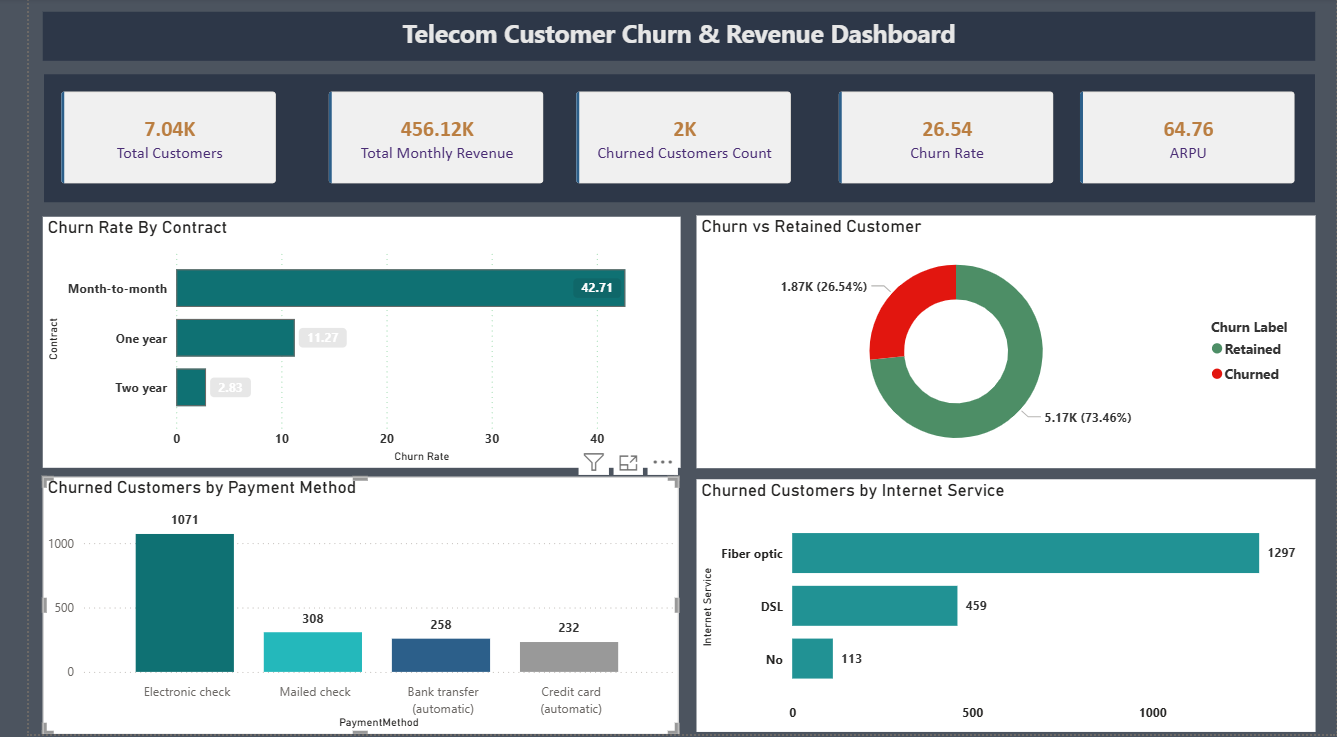

Layout of this report page (visuals, bound fields, positions):
{"tool":"powerbi","page":{"name":"Executive Summary","canvas":[1280,720],"ordinal":0},"visuals":[{"type":"group","id":"g1","title":"Group 1","box":[15.1,74.1,1243.2,124.9],"z":0},{"type":"barChart","title":"Churn Rate By Contract","fields":{"Y":["Billing.Churn Rate"],"Category":["Billing.Contract"]},"box":[13.5,214,623.6,245.8],"z":1000},{"type":"donutChart","title":"Churn vs Retained Customer","fields":{"Category":["ChurnStatus.Churn Label"],"Y":["CountNonNull(ChurnStatus.customerID)"]},"box":[653,212.8,605.3,247],"z":2000},{"type":"clusteredColumnChart","title":"Churned Customers by Payment Method","fields":{"Category":["Billing.PaymentMethod"],"Y":["Sum(ChurnStatus.Churn)"]},"box":[13.5,468.3,622.4,251.9],"z":3000},{"type":"textbox","box":[13.7,13.7,1244.6,48],"z":4000},{"type":"cardVisual","fields":{"Data":["Billing.Total Customers"]},"box":[15.1,74.1,246.2,124.9],"z":4500,"group":"g1"},{"type":"cardVisual","fields":{"Data":["Billing.Total Revenue"]},"box":[276.4,74.1,246.2,124.9],"z":5000,"group":"g1"},{"type":"clusteredBarChart","title":"Churned Customers by Internet Service","fields":{"Category":["services.InternetService"],"Y":["Sum(ChurnStatus.Churn)"]},"box":[653,470.8,605.3,247],"z":5000},{"type":"cardVisual","fields":{"Data":["Billing.Churned Customers Count"]},"box":[519,74.1,246.2,124.9],"z":5500,"group":"g1"},{"type":"cardVisual","fields":{"Data":["Billing.Churn Rate"]},"box":[775.7,74.1,246.2,124.9],"z":6000,"group":"g1"},{"type":"cardVisual","fields":{"Data":["Billing.ARPU"]},"box":[1012.2,74.1,246.2,124.9],"z":6500,"group":"g1"}]}

Visuals, with their boxes in screenshot pixels (x1, y1, x2, y2), scaled from the page's 1280x720 canvas onto the 1337x737 screenshot:
"Group 1" group: bbox(16, 76, 1314, 204)
"Churn Rate By Contract" barChart: bbox(14, 219, 665, 471)
"Churn vs Retained Customer" donutChart: bbox(682, 218, 1314, 471)
"Churned Customers by Payment Method" clusteredColumnChart: bbox(14, 479, 664, 736)
textbox: bbox(14, 14, 1314, 63)
cardVisual - Billing.Total Customers: bbox(16, 76, 273, 204)
cardVisual - Billing.Total Revenue: bbox(289, 76, 546, 204)
"Churned Customers by Internet Service" clusteredBarChart: bbox(682, 482, 1314, 735)
cardVisual - Billing.Churned Customers Count: bbox(542, 76, 799, 204)
cardVisual - Billing.Churn Rate: bbox(810, 76, 1067, 204)
cardVisual - Billing.ARPU: bbox(1057, 76, 1314, 204)
